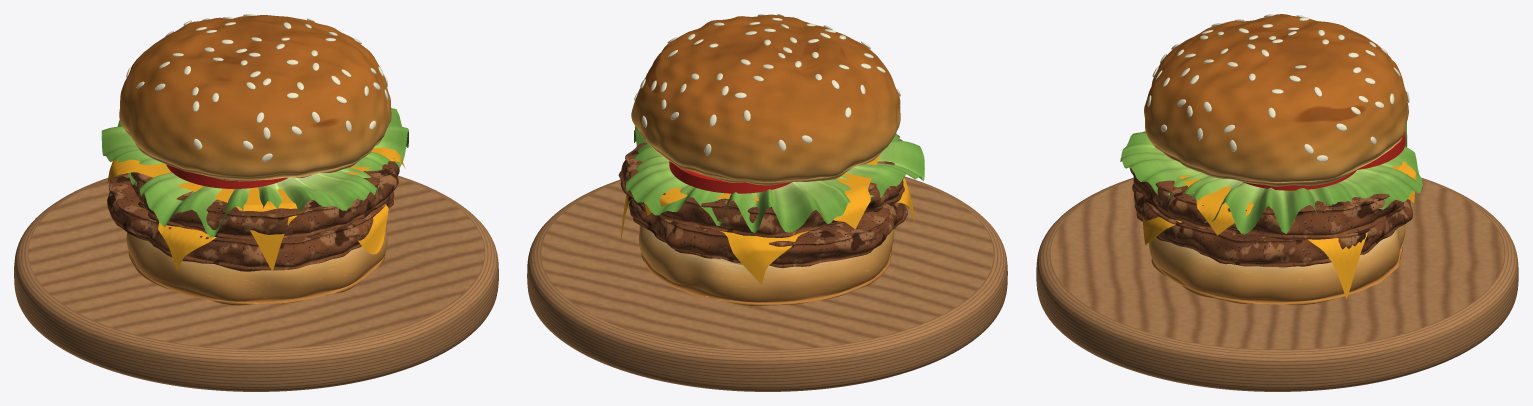
File: hamburguer.glb
3 views of the same model, side by side, from view 1: azimuth 30°, elevation 25°; view 2: azimuth 150°, elevation 25°; view 3: azimuth 270°, elevation 25° (orthographic).
Parts seen in each view (by area): view 1: smash-duplo; view 2: smash-duplo; view 3: smash-duplo.
Part boxes in pixels (box(x1,y1,x2,y2)): smash-duplo: box(14, 14, 498, 391); smash-duplo: box(527, 14, 1007, 391); smash-duplo: box(1036, 14, 1518, 391).
Bounding box in the file's own units: 0.2105 × 0.1228 × 0.2105.
Materials: 9 (6 with a texture image).
